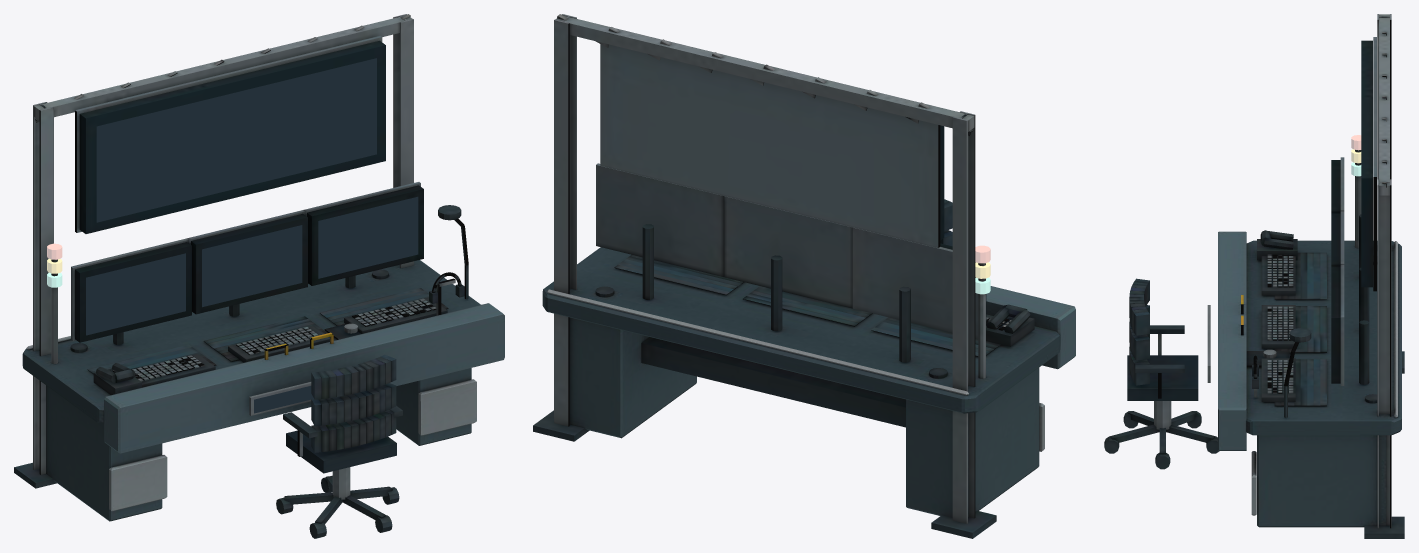
The model's file is engineering_consoles_v4.glb.
3 views of the same model, side by side, from view 1: azimuth 30°, elevation 25°; view 2: azimuth 150°, elevation 25°; view 3: azimuth 270°, elevation 25° (orthographic). The views are drawn at different scales.
Visible parts, largest first — view 1: hardware.001, shell.001, screen_station_builder_overhead, screen_station_builder_1, screen_station_builder_2, screen_station_builder_0, screen_station_builder_nameplate, glow.001; view 2: hardware.001, shell.001, glow.001; view 3: hardware.001, shell.001, glow.001.
Part boxes in pixels (<box>): hardware.001: <box>14,14,468,538</box>; shell.001: <box>22,260,504,521</box>; screen_station_builder_overhead: <box>96,58,376,222</box>; screen_station_builder_1: <box>202,225,302,307</box>; screen_station_builder_2: <box>318,196,418,278</box>; screen_station_builder_0: <box>86,253,185,335</box>; screen_station_builder_nameplate: <box>254,386,313,413</box>; glow.001: <box>47,243,62,287</box>; hardware.001: <box>533,14,1034,538</box>; shell.001: <box>542,247,1075,517</box>; glow.001: <box>975,245,990,294</box>; hardware.001: <box>1104,14,1404,538</box>; shell.001: <box>1218,231,1401,527</box>; glow.001: <box>1351,135,1361,176</box>.
Size of the model in its own units: 2.98 by 2.66 by 2.07.
Materials: 4 (2 with a texture image).
